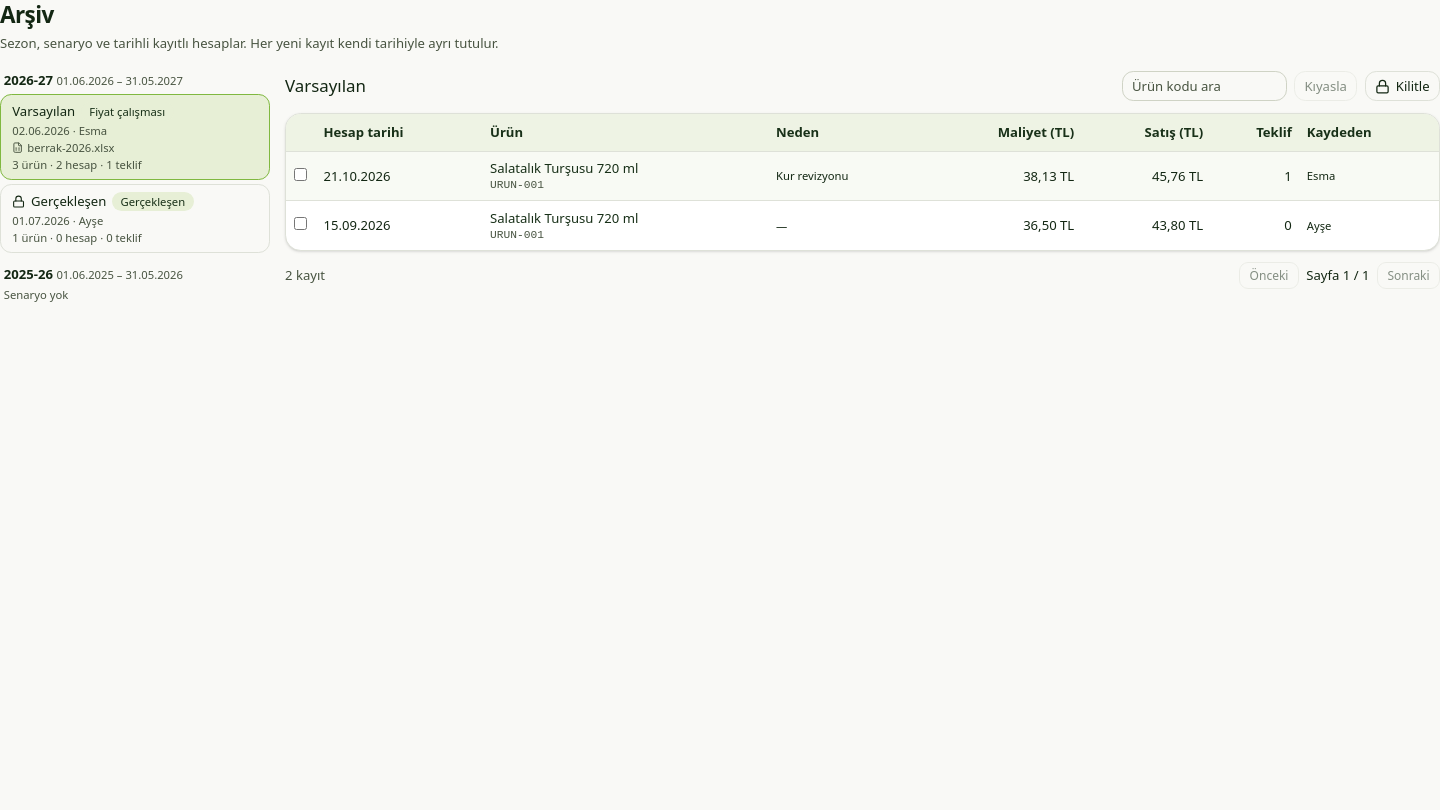
Scenario: Arşiv › Kilitle: neden zorunlu; onayda kilitle ucuna neden gönderilir
Step 1. Click the button "Kilitle" → x=1402, y=86, box 1365,71 -> 1439,101
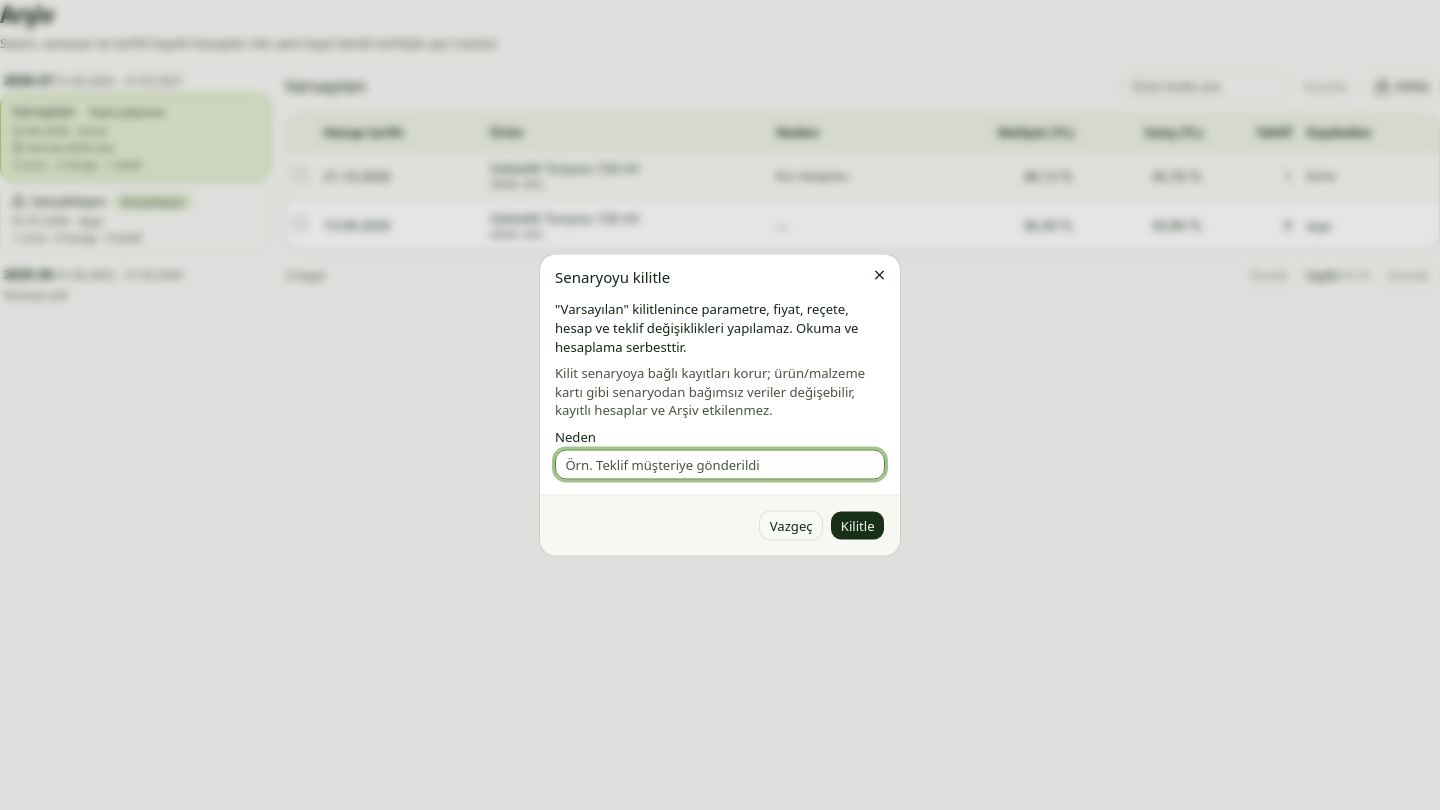
Expected: the heading "Senaryoyu kilitle" is shown, 555,266 -> 670,286
Expected: the text "Kilit senaryoya bağlı kayıtları korur; ürün/malzeme kartı gibi senaryodan bağımsız veriler değişebilir, kayıtlı hesaplar" is shown, 555,363 -> 865,419
Step 2. Click the button "Kilitle" → x=858, y=526, box 830,510 -> 885,540
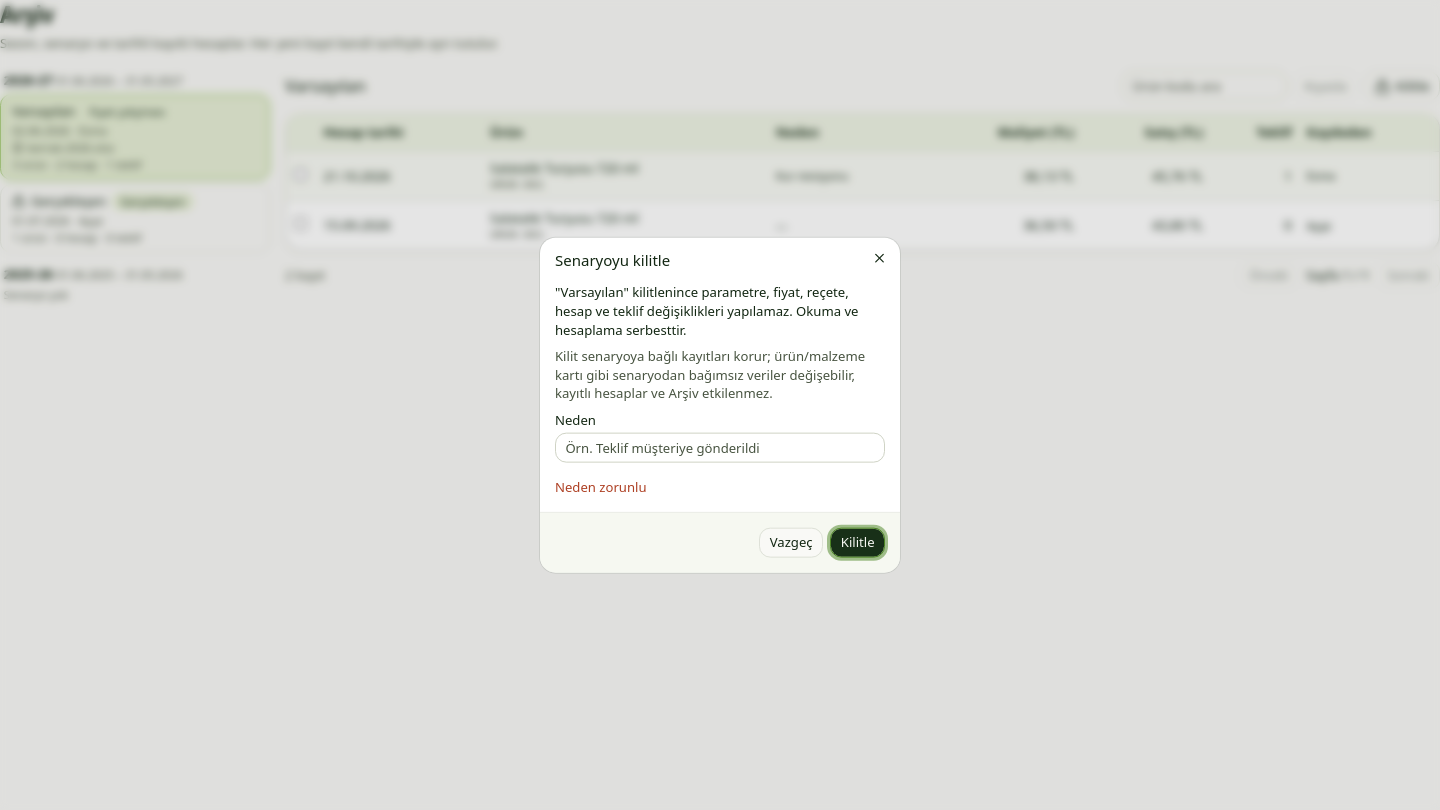
Expected: the message reads "Neden zorunlu", 555,478 -> 646,496
Step 3. Type "Teklif gönderildi" into the field labelled "Neden" → x=720, y=448, box 555,433 -> 885,463
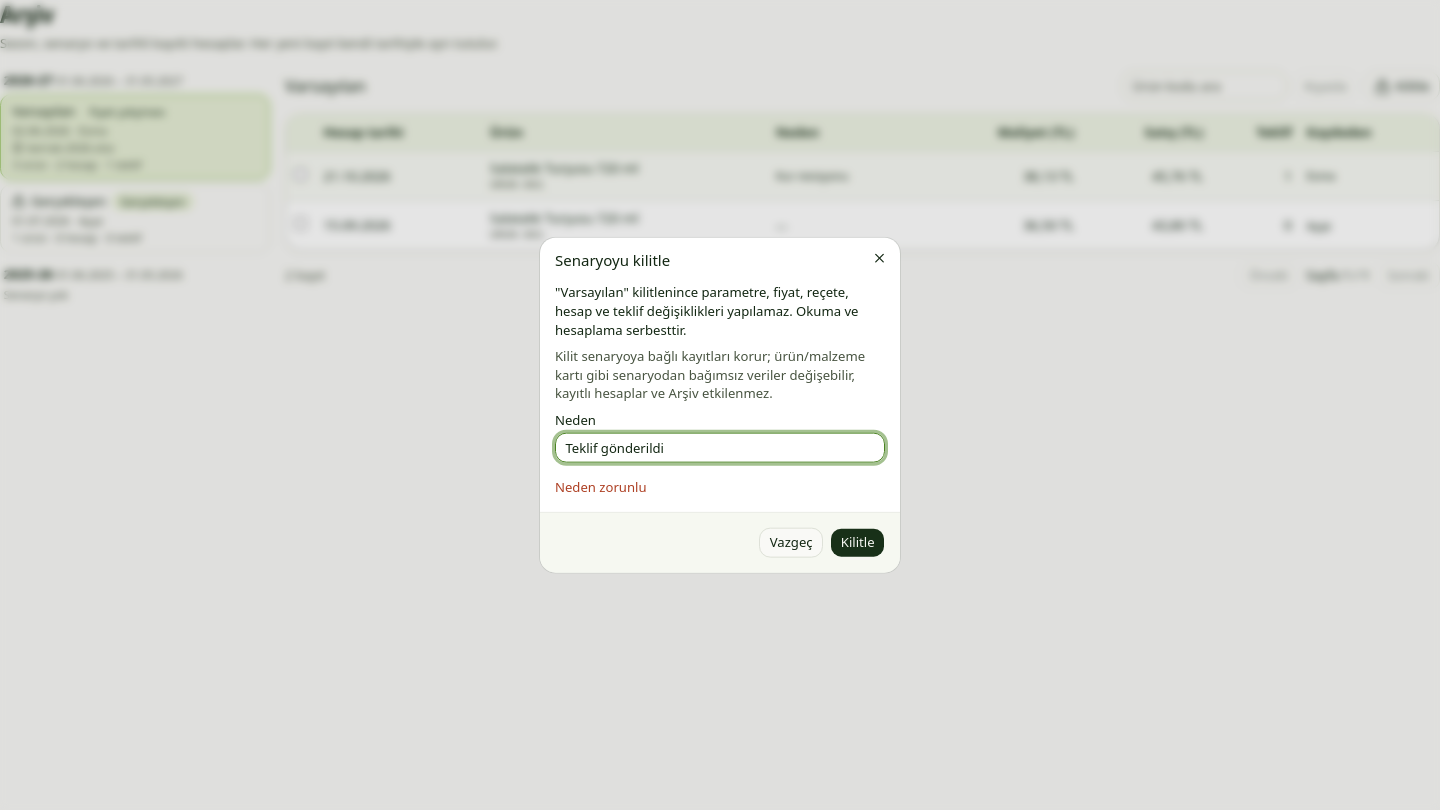
Step 4. Click the button "Kilitle" → x=858, y=542, box 830,527 -> 885,557
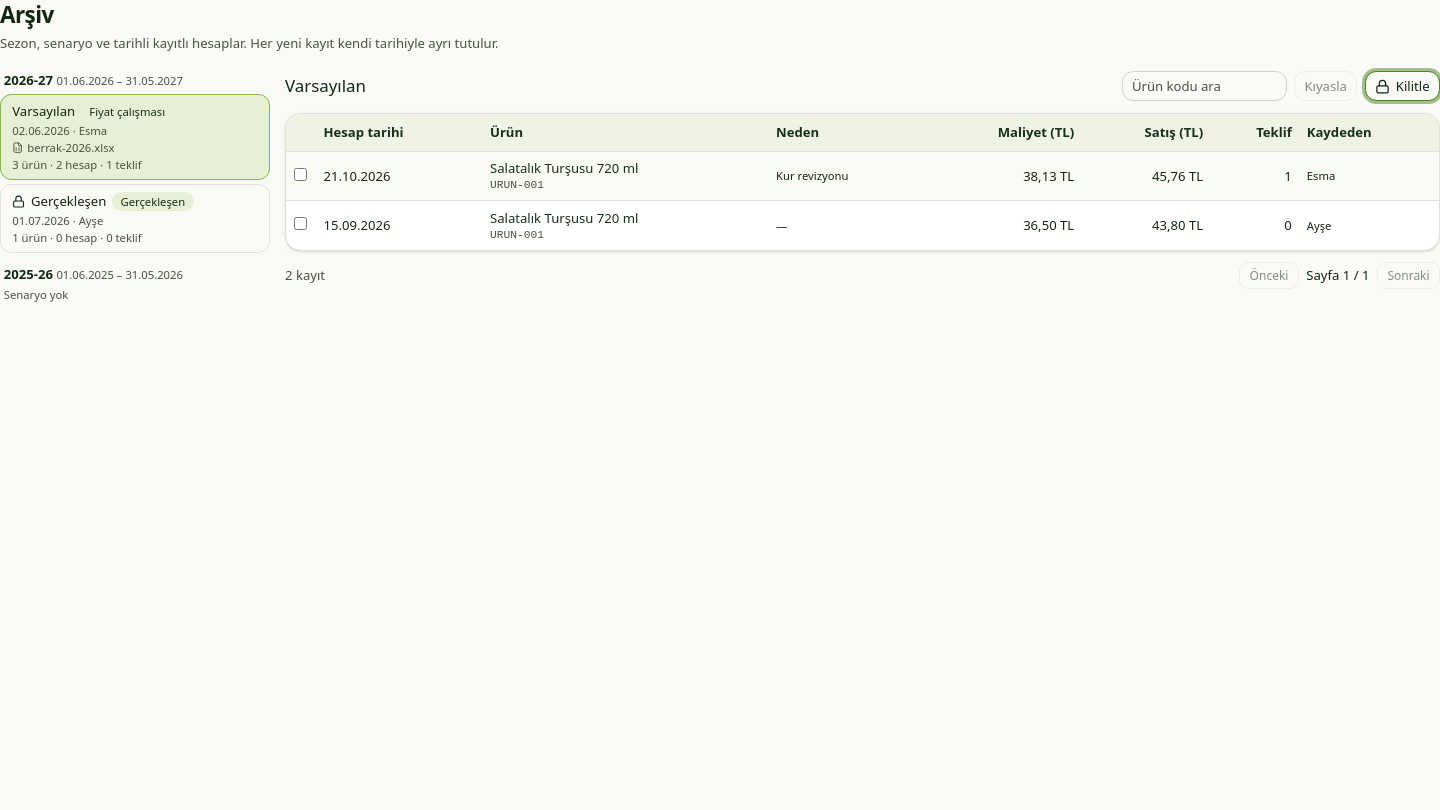
Expected: the dialog is gone
